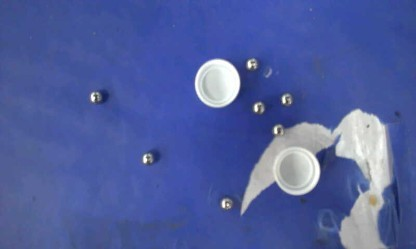ironball: (219, 197, 233, 210), (252, 100, 265, 114), (89, 90, 102, 103), (245, 57, 258, 70), (141, 151, 153, 165), (280, 92, 292, 106), (271, 123, 283, 136)
